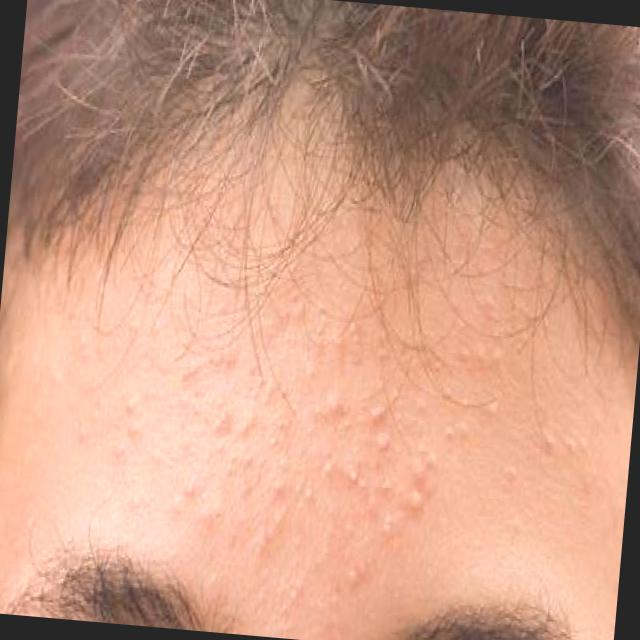fungal: (61, 321, 474, 591)
